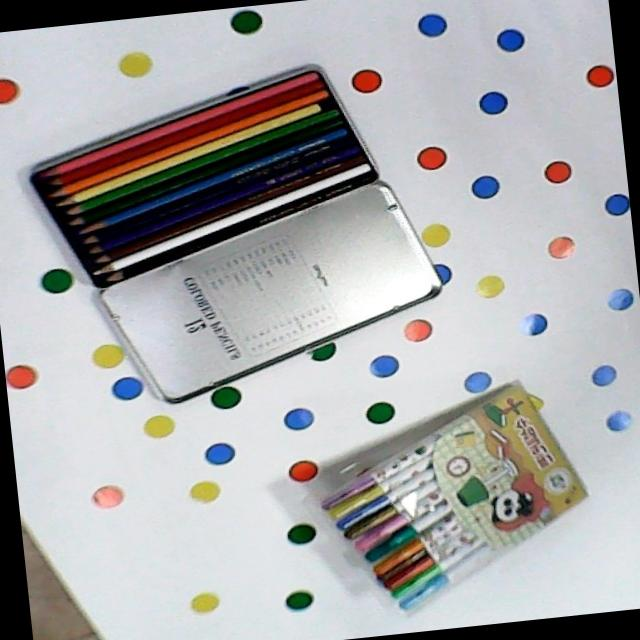color: (17, 58, 384, 298)
signpen: (285, 373, 597, 627)
